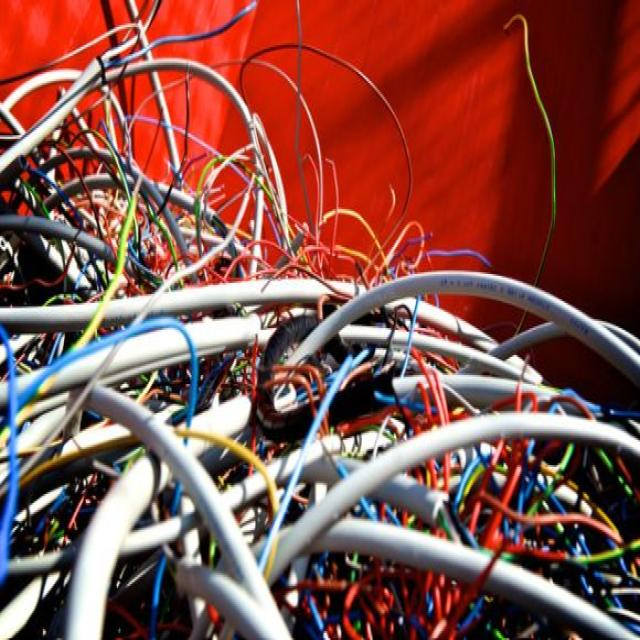electronic: (1, 17, 301, 345)
